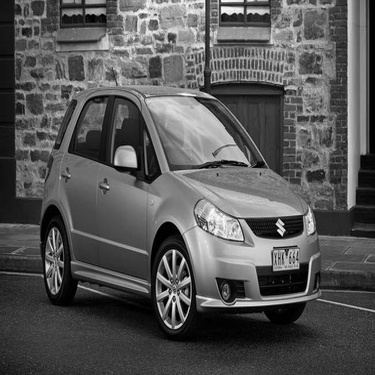car: (23, 77, 347, 331)
